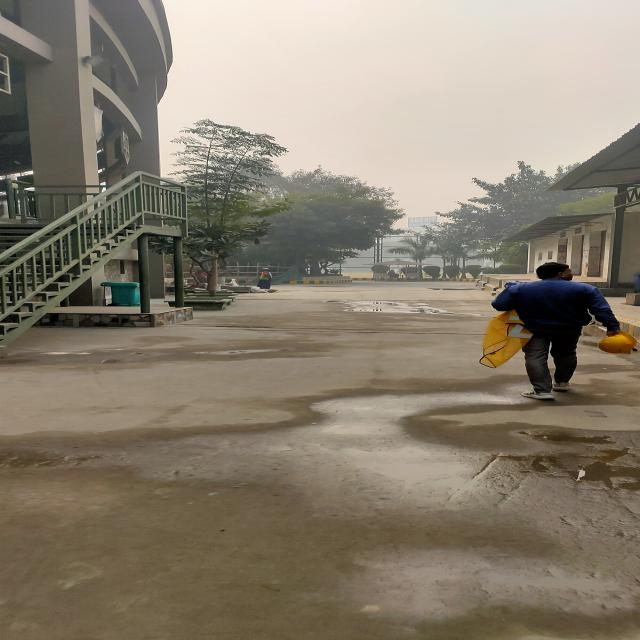unsafe: (518, 262, 598, 399)
